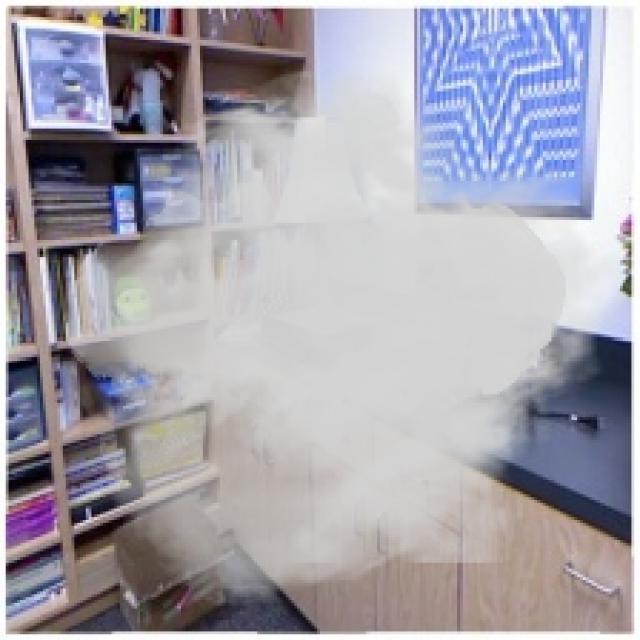smoke: (63, 63, 623, 611)
